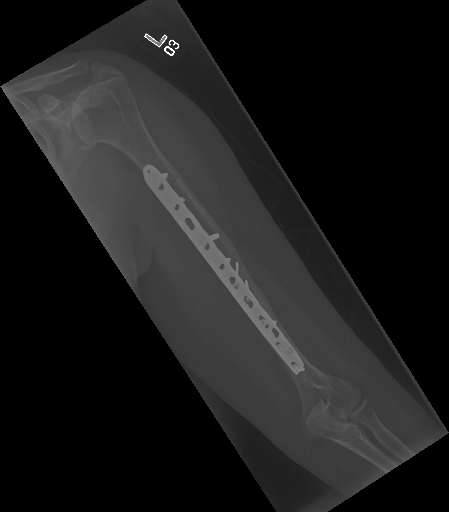implant: (226, 261, 304, 373), (139, 162, 217, 250)
